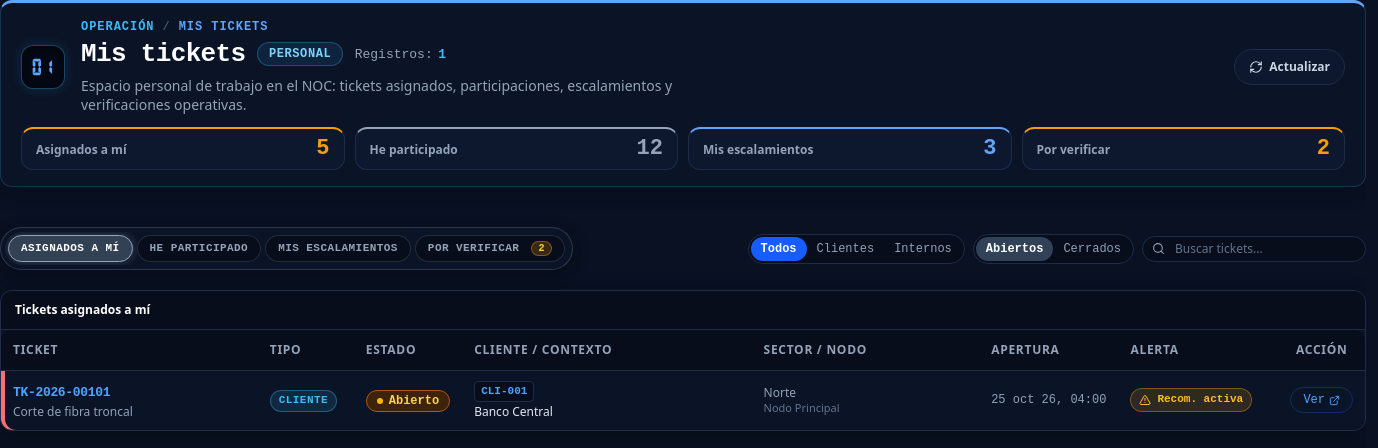
Test: Módulo «Mis tickets» › resumen del encabezado (variante B) › Actualizar recarga el resumen y no conserva cifras obsoletas si falla
Expected: the text "12" is shown, [637,137,663,161]
Click the button "Actualizar".
click(1290, 67)  # box [1234,49,1345,85]
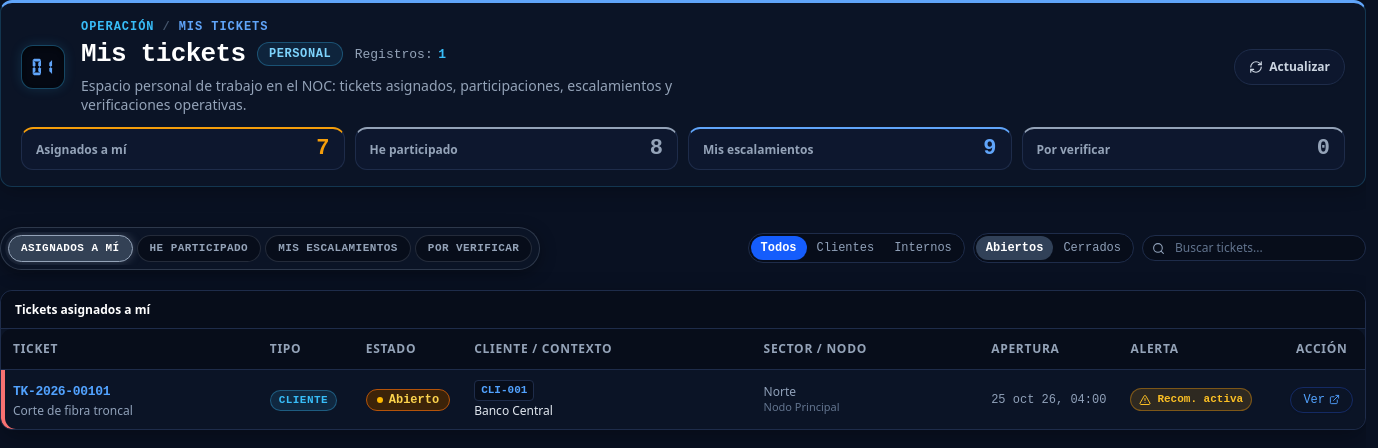
Now the text "7" is shown, box [316,137,330,161]
Now the text "12" is gone
Click the button "Actualizar".
click(1290, 67)  # box [1234,49,1345,85]
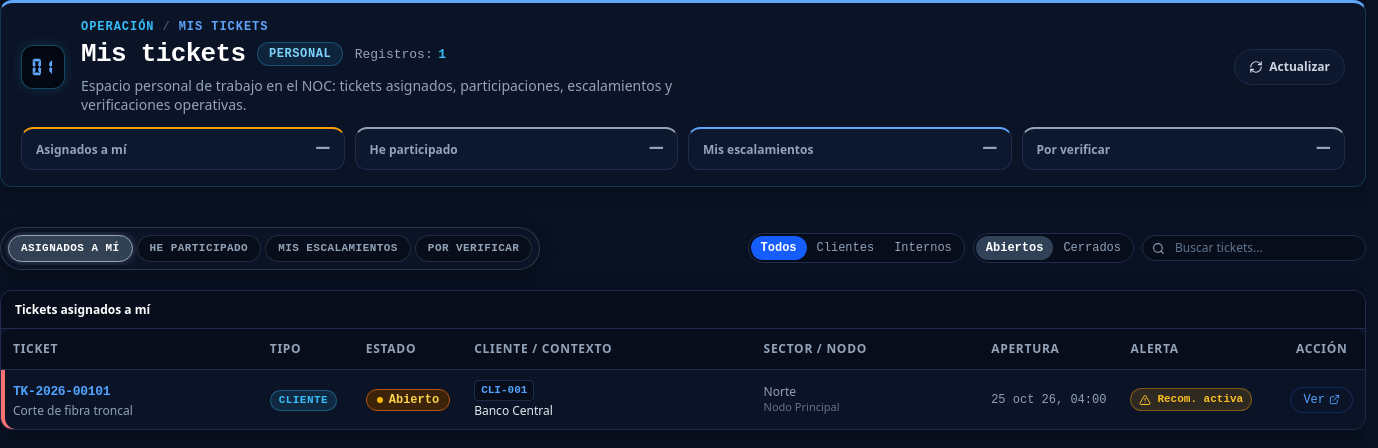
Now the text "7" is gone
